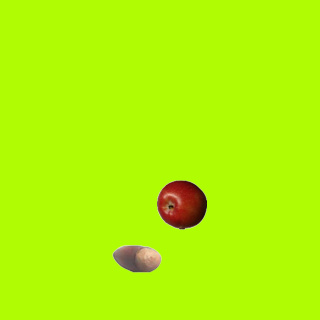Apple Braeburn: (156, 179, 206, 229)
Hazelnut: (111, 233, 161, 283)
